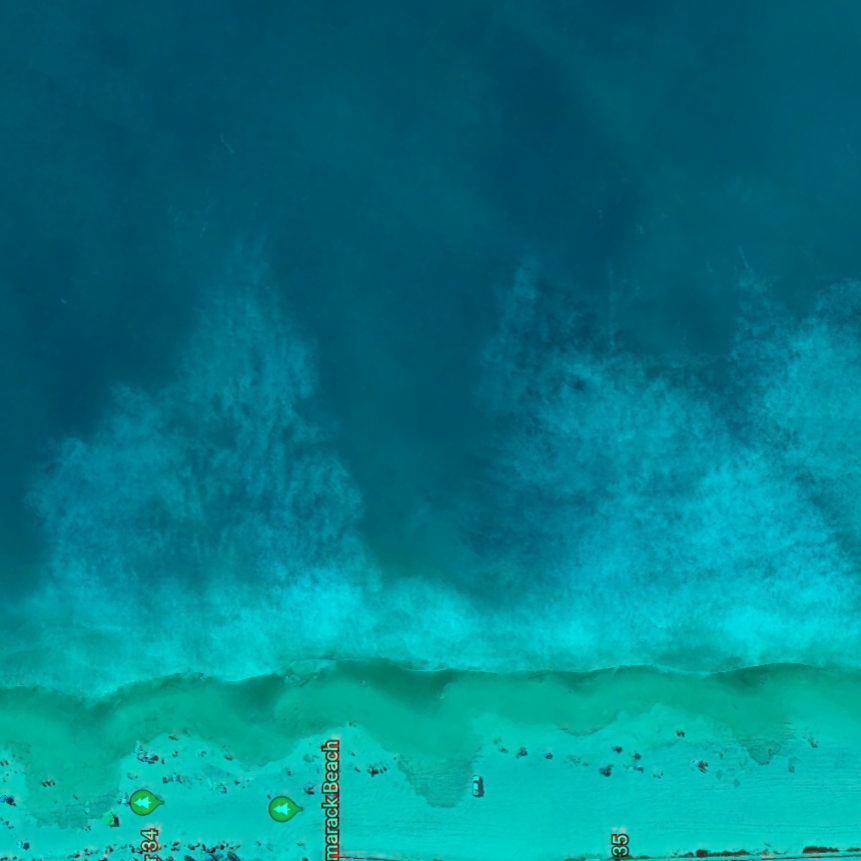rip_current: (240, 174, 559, 568)
